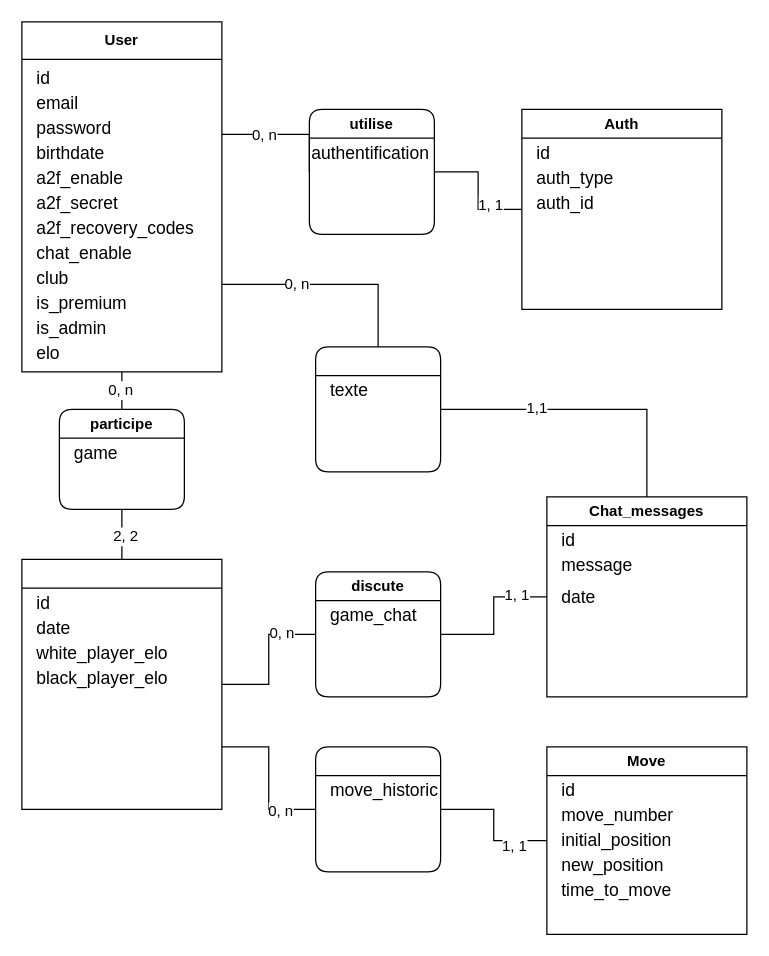
Image size: 769x956. Some labels were removed from this diagram. Here are the shapes that lost their labels. From the top down, the box of each, then its label:
(314, 346, 441, 472): écrit
(21, 558, 222, 809): Games
(314, 746, 441, 872): joue
